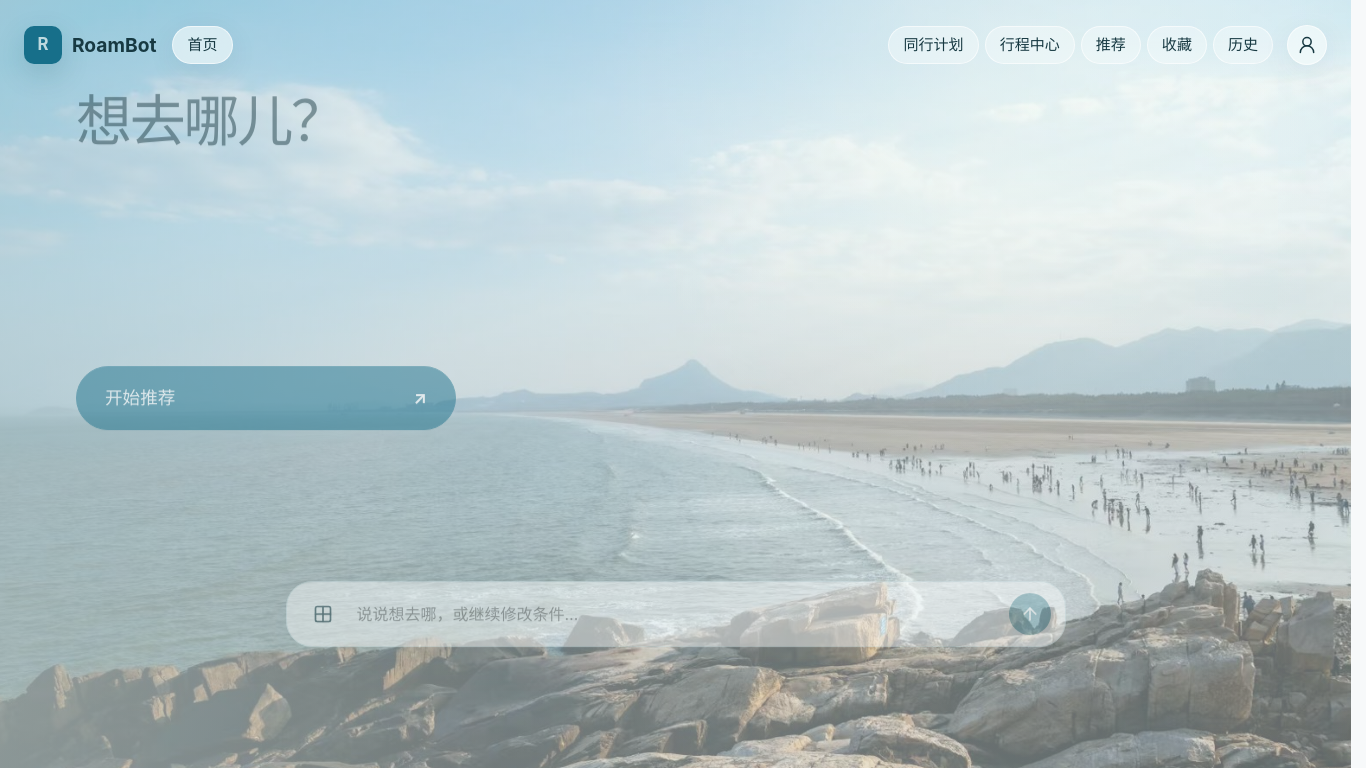
Scenario: progressive SearchWorkspace business regression › keeps direct condition editing reachable when the assistant fails before any cards exist
Type "明天从苏州站出发" into the text box named "继续补充条件".
click(676, 691); type("明天从苏州站出发")  # box [356, 669, 996, 713]
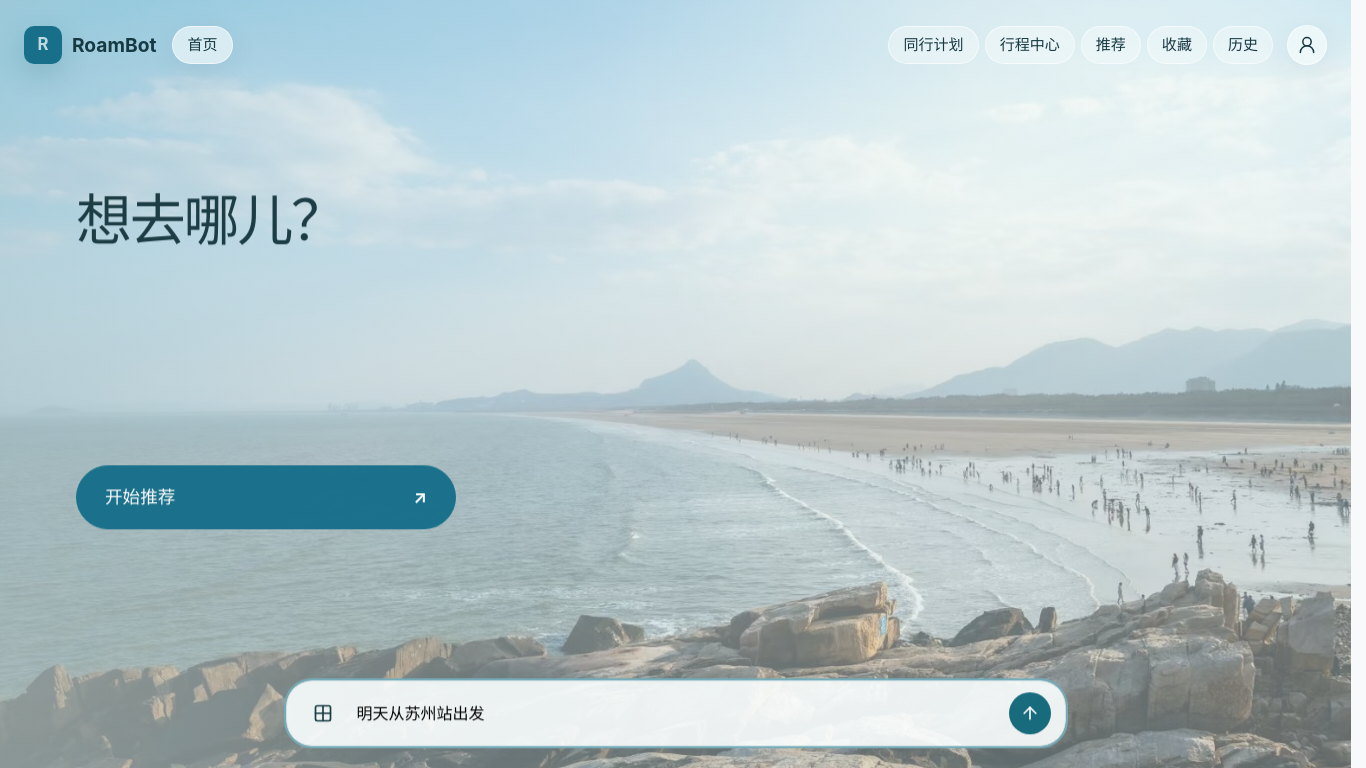
Click the button named "发送消息".
click(1030, 718)  # box [1008, 697, 1050, 739]
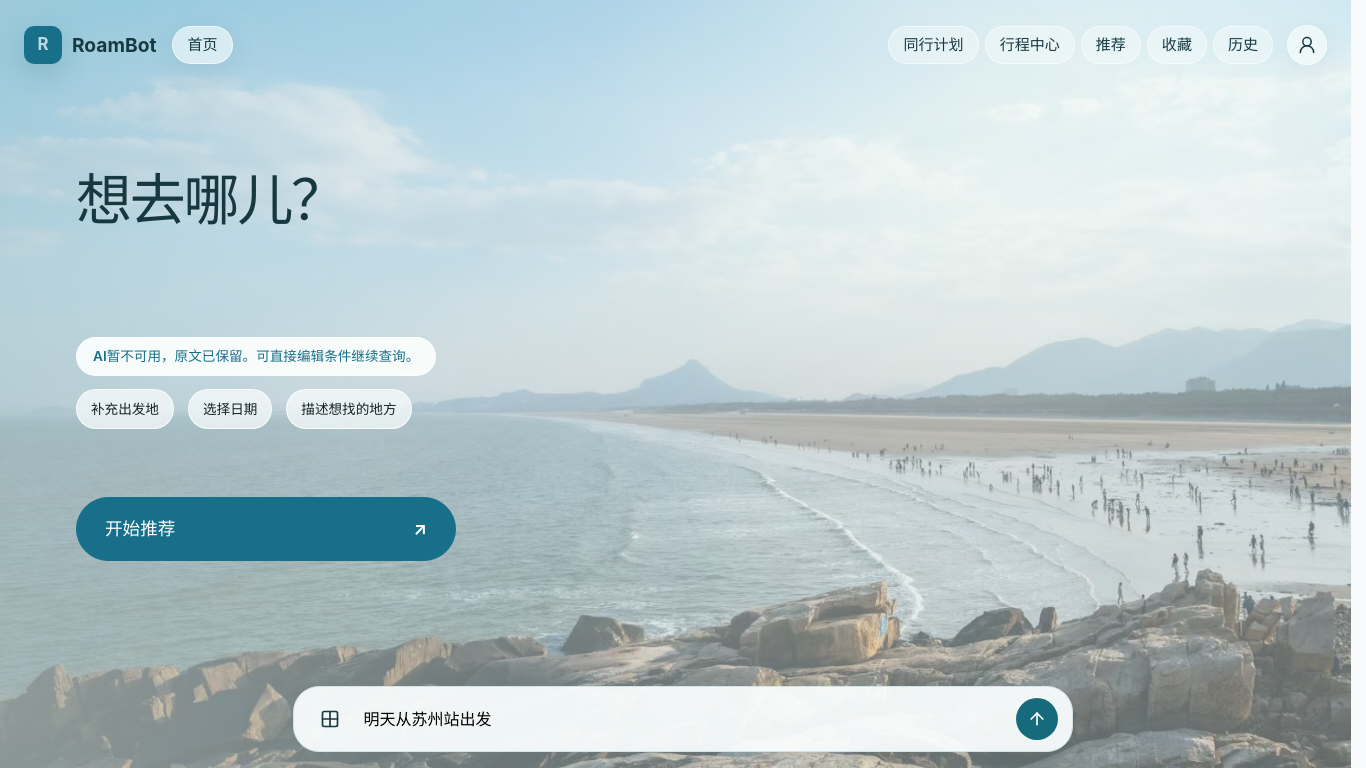
Click the button "补充出发地".
click(124, 409)  # box [76, 389, 174, 429]
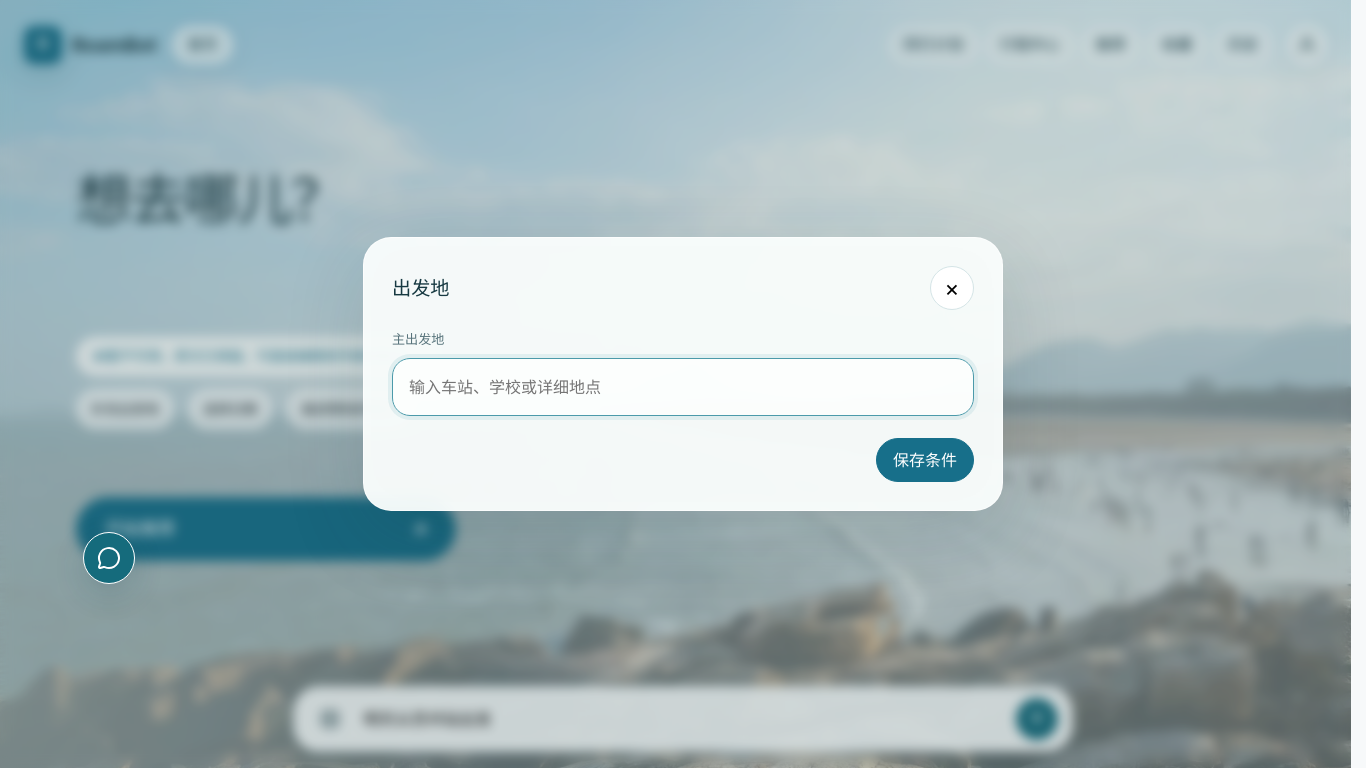
expect the dropdown labelled "主出发地" is shown: met, box [392, 358, 974, 416]
